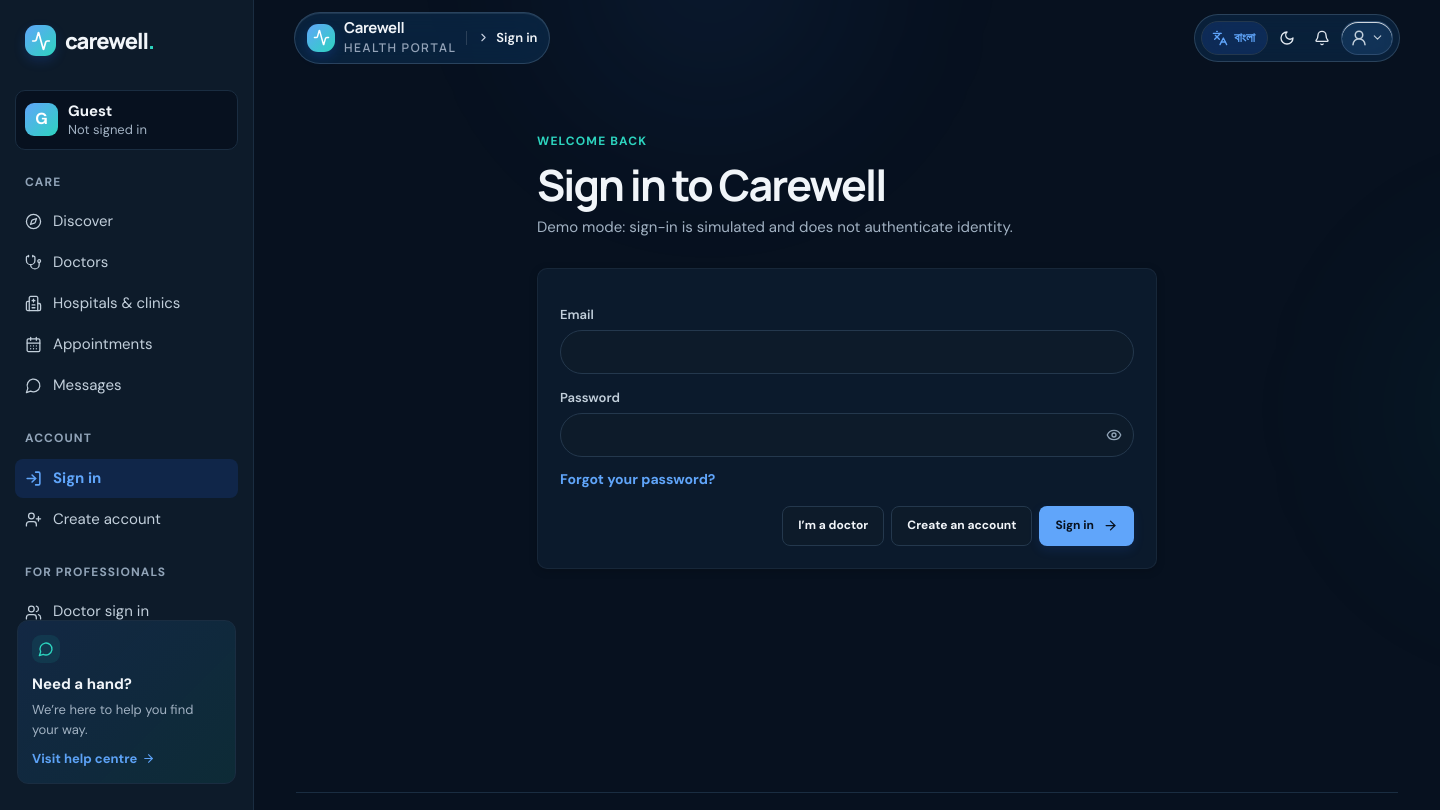
Scenario: forgot password screens › walks a user from sign-in to a new password and back to sign-in
The image size is (1440, 810).
Step 1. Click the link "Forgot your password?" → x=638, y=480, box [560,469,715,490]
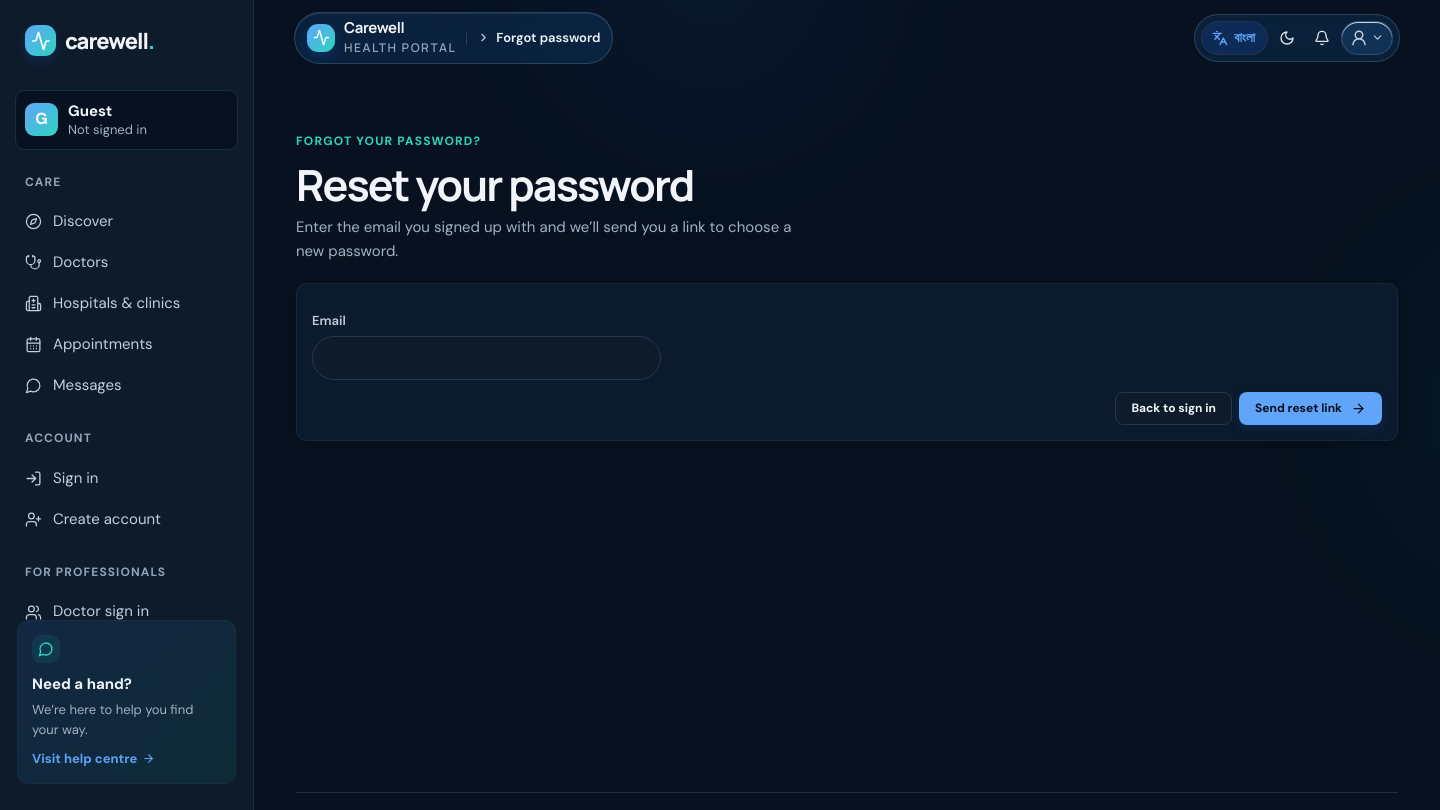
Result: the heading "Reset your password" is shown at [296,155,693,214]
Step 2. Type "someone@example.test" into the field labelled "Email" → x=487, y=358, box [312,336,661,380]
Step 3. Click the button "Send reset link" → x=1310, y=408, box [1239,392,1382,425]
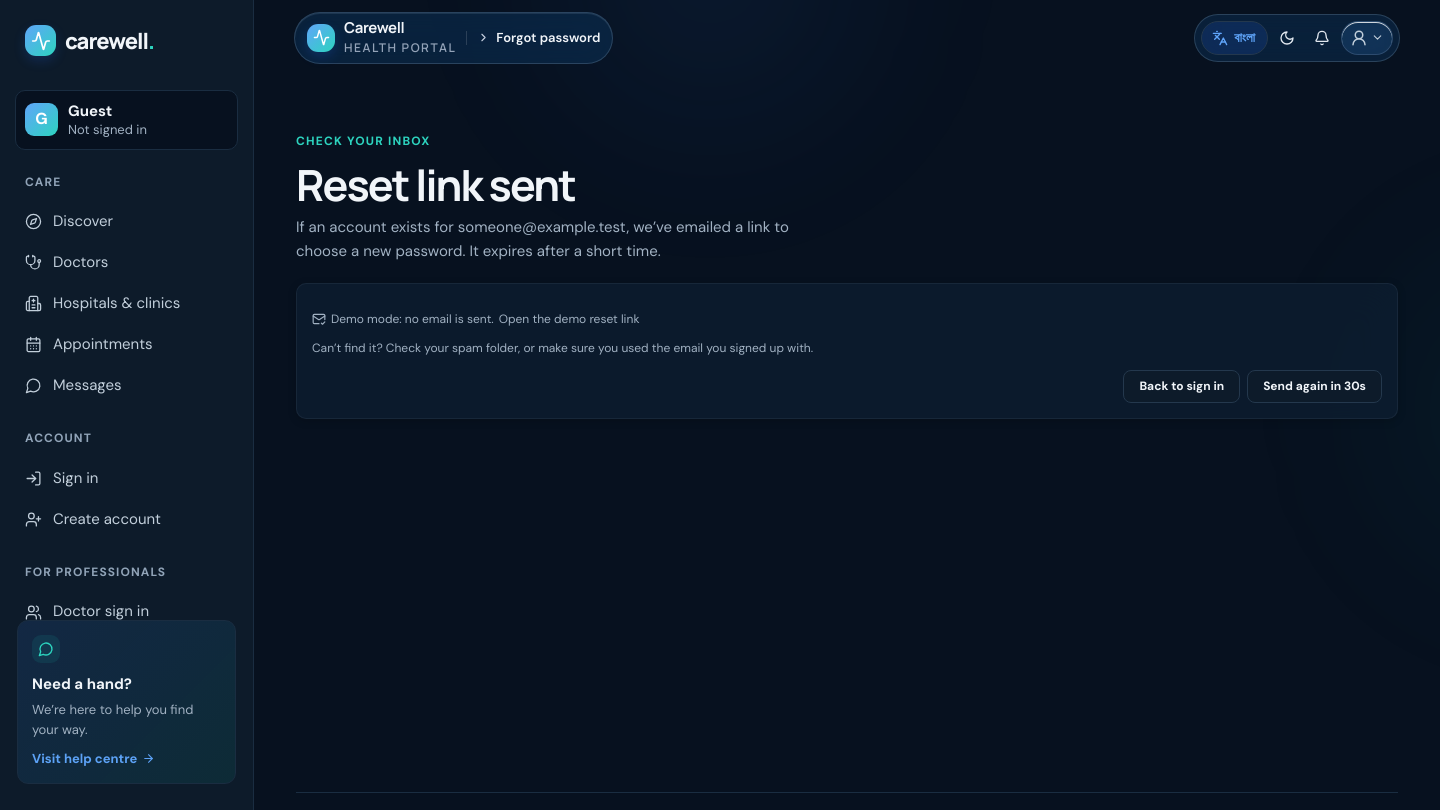
Result: the heading "Reset link sent" is shown at [296,155,575,214]
Result: the text "If an account exists for someone@example.test" is shown at [296,217,789,261]
Note: Demo mode shows the link a real email would contain.
Step 4. Click the link "Open the demo reset link" → x=569, y=319, box [499,310,639,328]
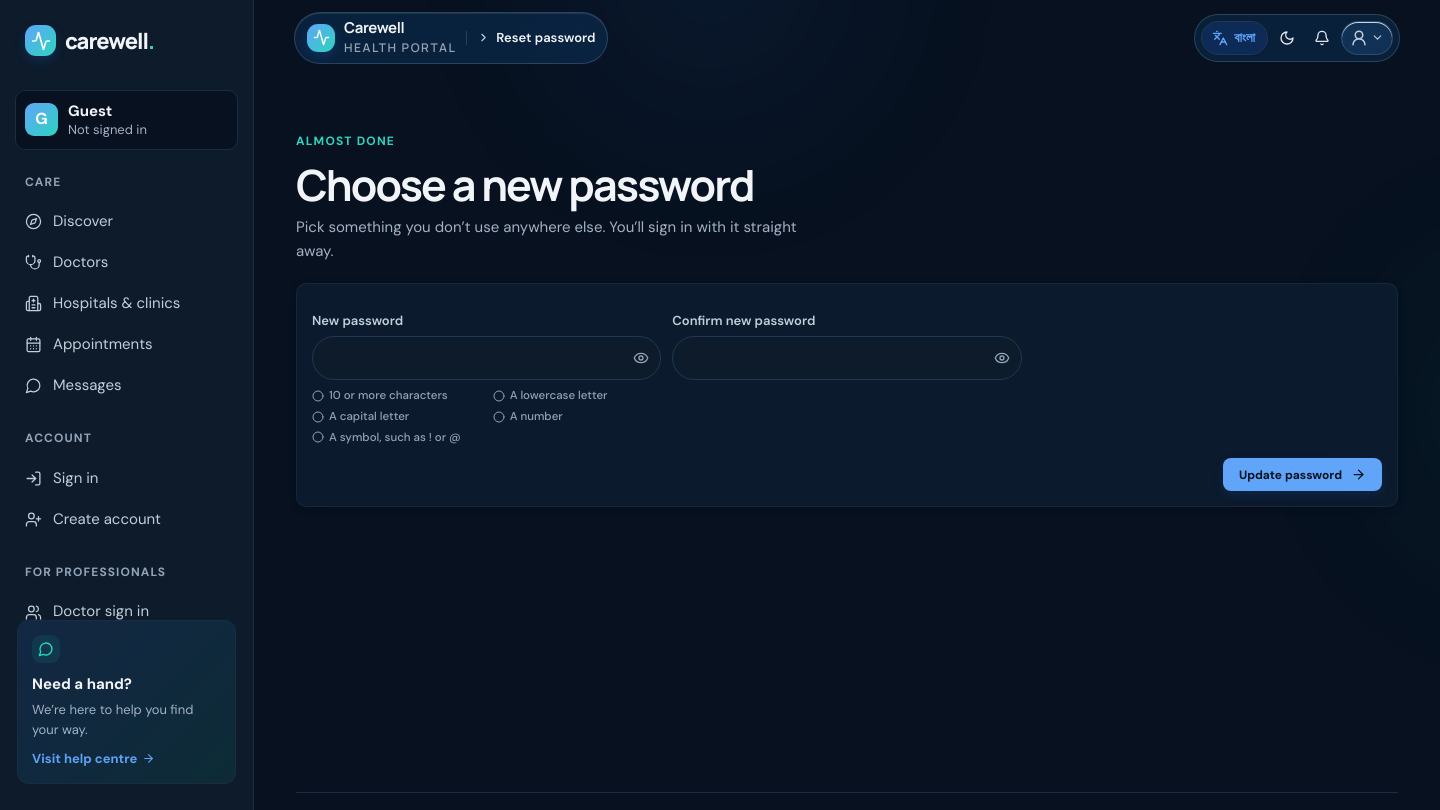
Result: the heading "Choose a new password" is shown at [296,160,806,209]
Step 5. Type "A-brand-new-one-1!" into the password field labelled "New password" → x=487, y=358, box [312,336,661,380]
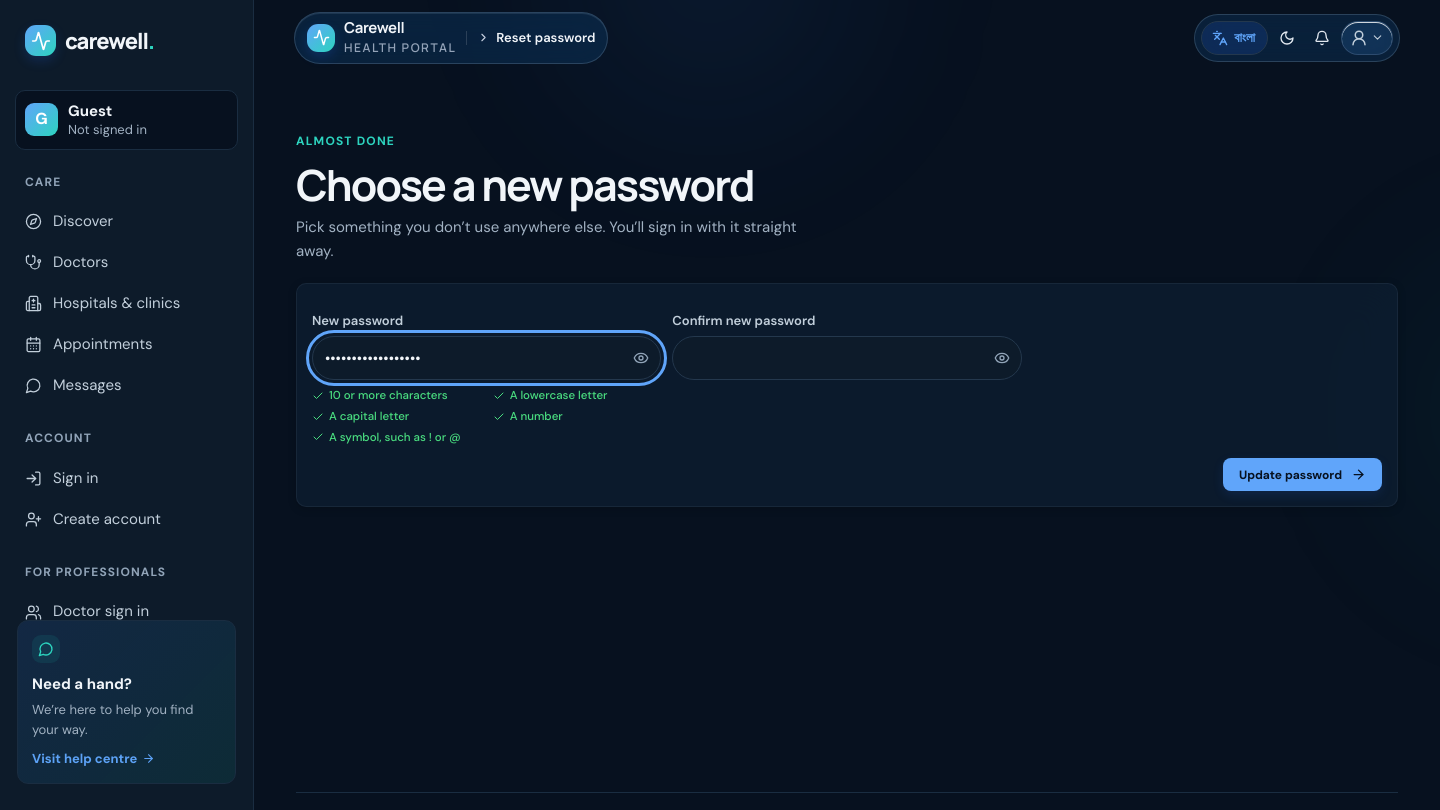
Step 6. Type "A-brand-new-one-1!" into the password field labelled "Confirm new password" → x=847, y=358, box [672,336,1022,380]
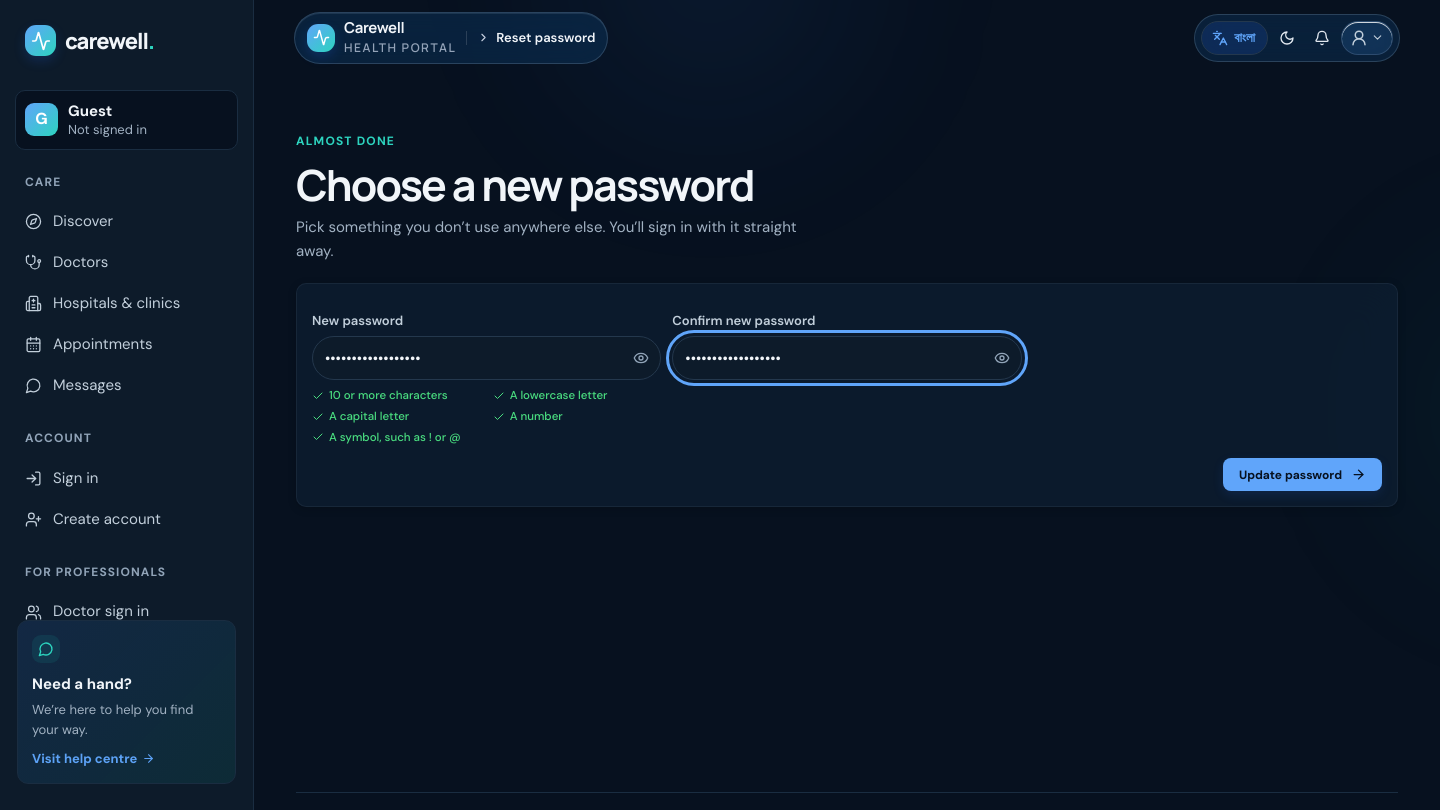
Step 7. Click the button "Update password" → x=1302, y=475, box [1223,458,1382,491]
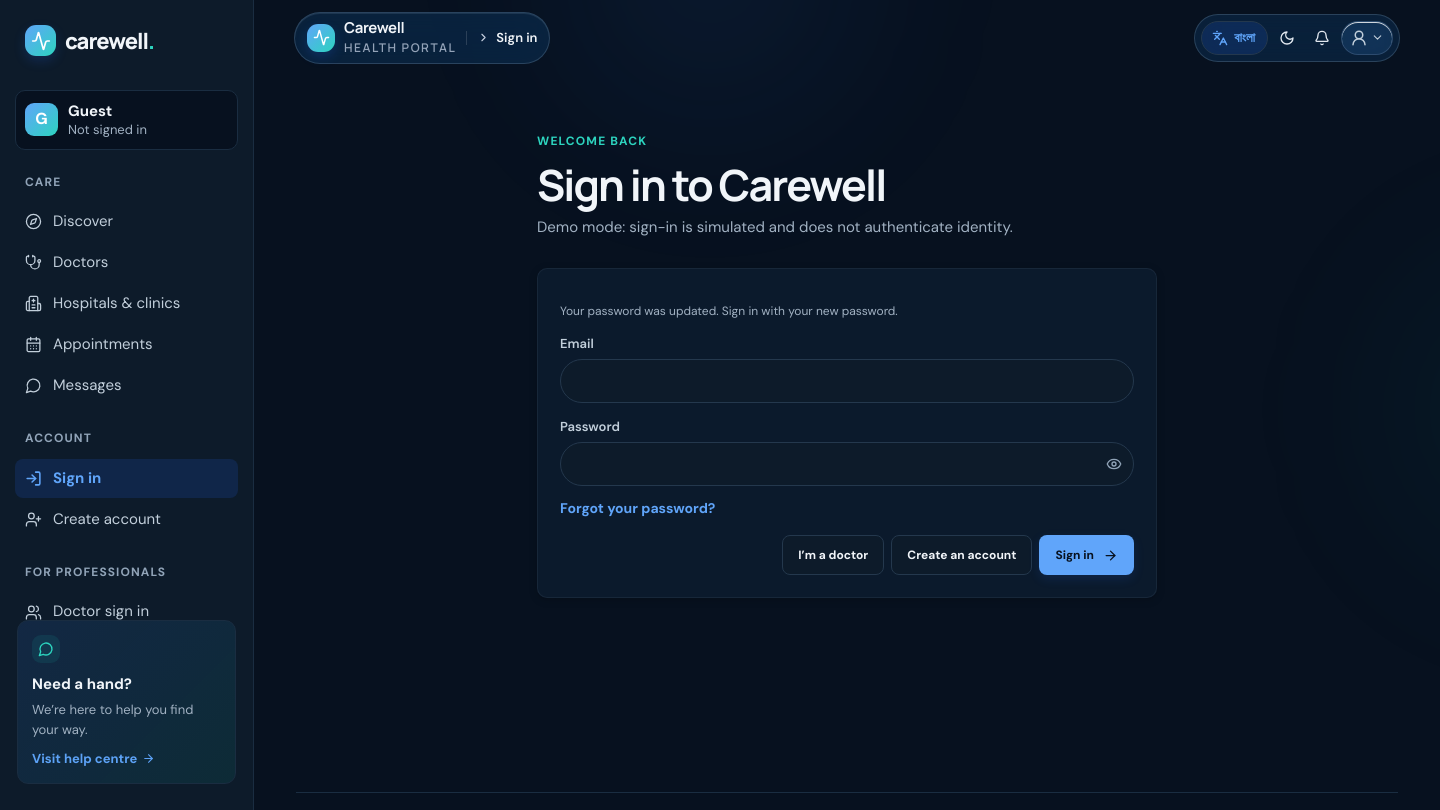
Result: the heading "Sign in to Carewell" is shown at [537,155,885,214]
Result: the text "Your password was updated. Sign in with your new password." is shown at [560,303,898,319]
